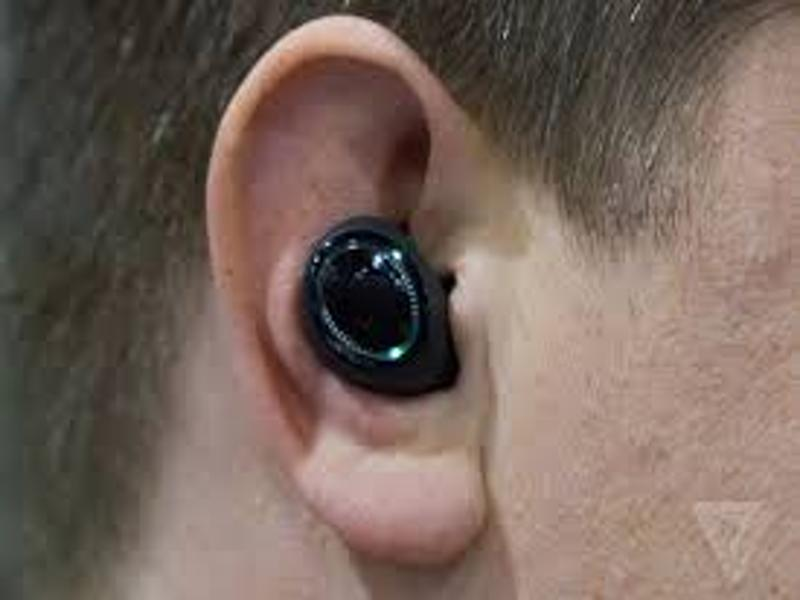headphone: (303, 214, 461, 401)
